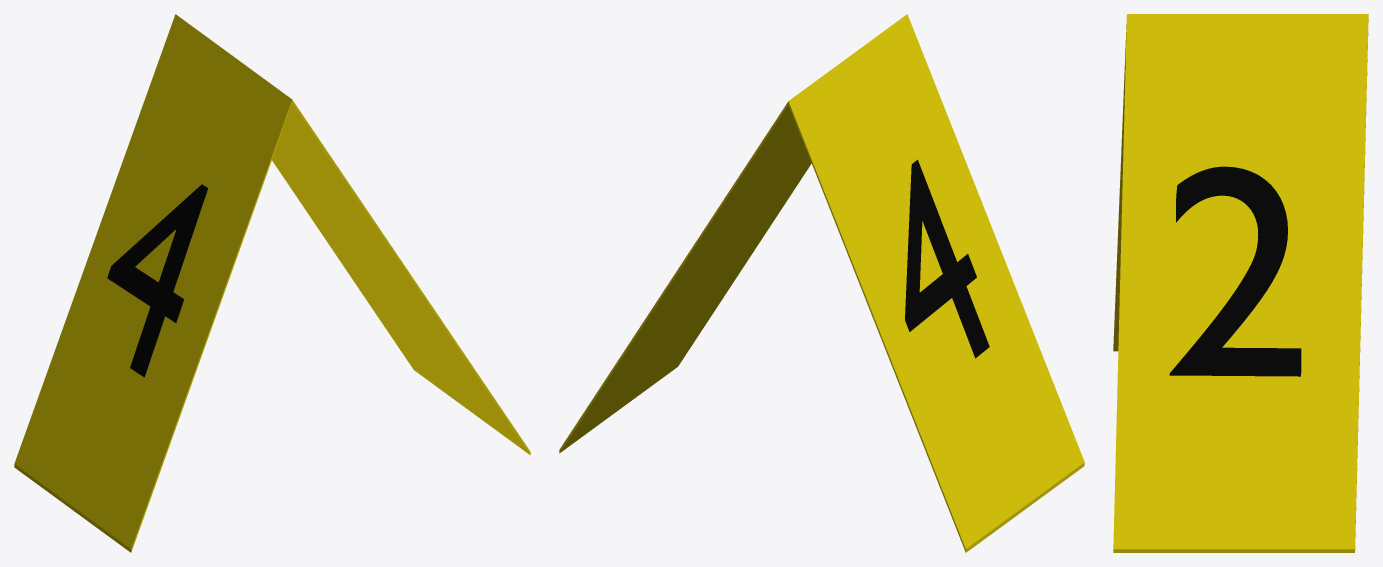
File: stobok_2.fbx
3 renders of one model, left to right at view 1: azimuth 30°, elevation 25°; view 2: azimuth 150°, elevation 25°; view 3: azimuth 270°, elevation 25°, orthographic. The views are drawn at different scales.
Parts seen in each view (by area): view 1: Cube, Text.002; view 2: Cube, Text.002; view 3: Cube, Text.001.
Boxes of the visible parts, x1,y1,x2,y2 form: Cube: (14,14,530,552); Text.002: (107,184,207,377); Cube: (559,14,1084,552); Text.002: (905,159,989,358); Cube: (1113,14,1368,552); Text.001: (1169,166,1301,376).
Size of the model in its own units: 395 by 385 by 211.
